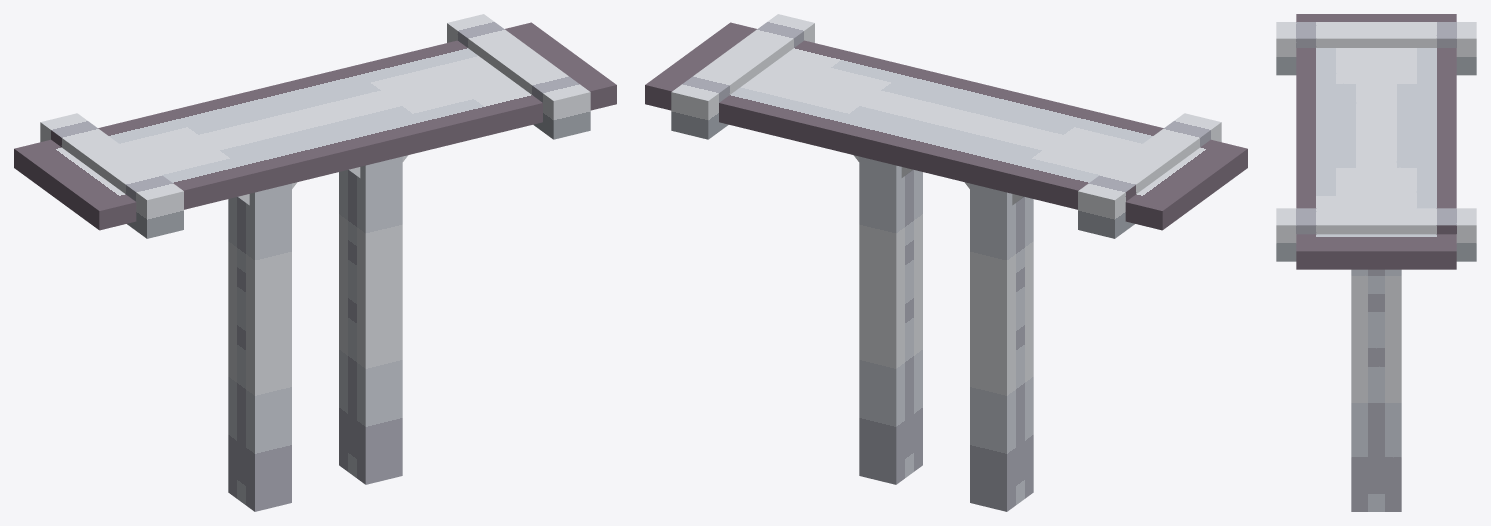
The model's file is overhead_triangle_truss_hanger_double.obj.
3 renders of one model, left to right at view 1: azimuth 30°, elevation 25°; view 2: azimuth 150°, elevation 25°; view 3: azimuth 270°, elevation 25°, orthographic. The views are drawn at different scales.
Parts seen in each view (by area): view 1: hanger_base; view 2: hanger_base; view 3: hanger_base.
Part boxes in pixels (box(x1,y1,x2,y2)): hanger_base: box(14, 14, 616, 511); hanger_base: box(645, 14, 1247, 511); hanger_base: box(1276, 14, 1476, 511).
Bounding box in the file's own units: 1.75 × 1.22 × 0.625.
